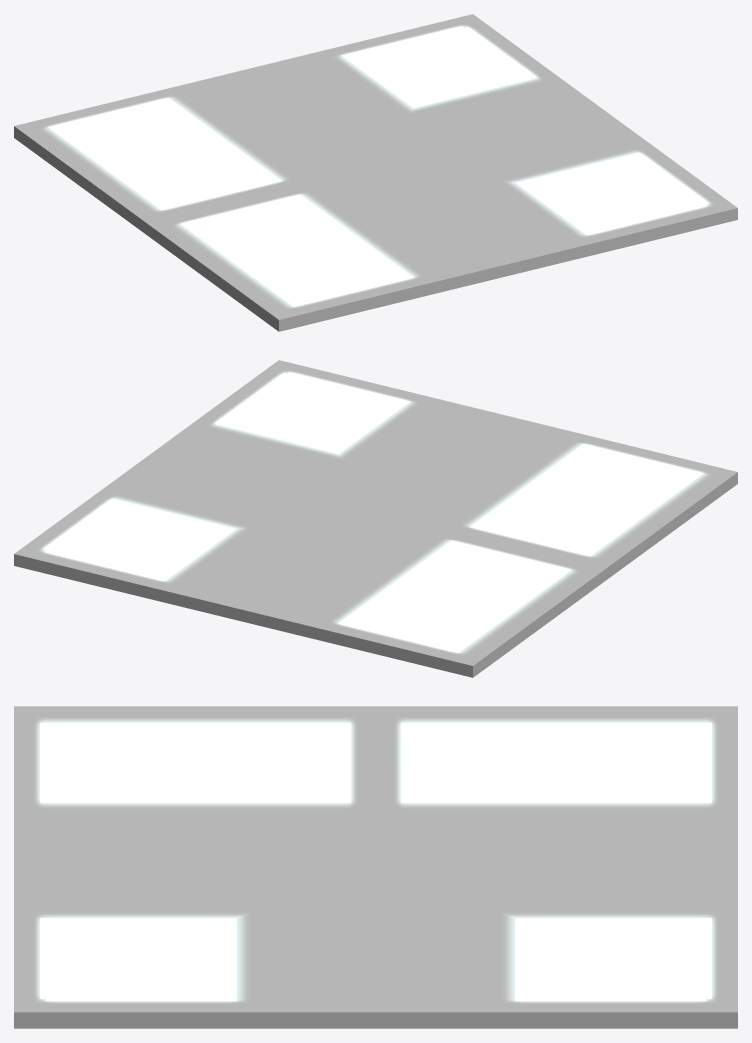
The model's file is FUT0510059.fbx.
The picture shows the model from 3 angles, top to bottom: view 1: azimuth 30°, elevation 25°; view 2: azimuth 150°, elevation 25°; view 3: azimuth 270°, elevation 25°; orthographic projection. The views are drawn at different scales.
Visible parts, largest first — view 1: smFUT0510059; view 2: smFUT0510059; view 3: smFUT0510059.
Part boxes in pixels (x1,y1,x2,y2): smFUT0510059: (14, 14, 737, 331); smFUT0510059: (14, 360, 737, 677); smFUT0510059: (14, 706, 737, 1028).
Size of the model in its own units: 305 by 7.53 by 305.
